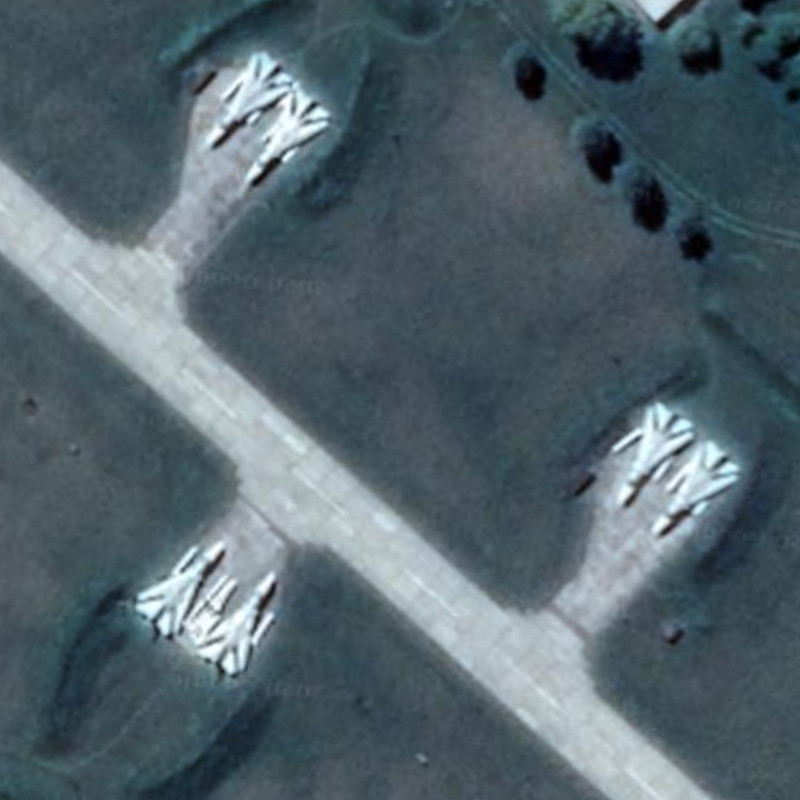A20: (131, 536, 231, 639), (247, 84, 335, 200), (654, 441, 746, 550), (198, 568, 280, 680), (615, 399, 696, 509), (204, 51, 291, 146)
